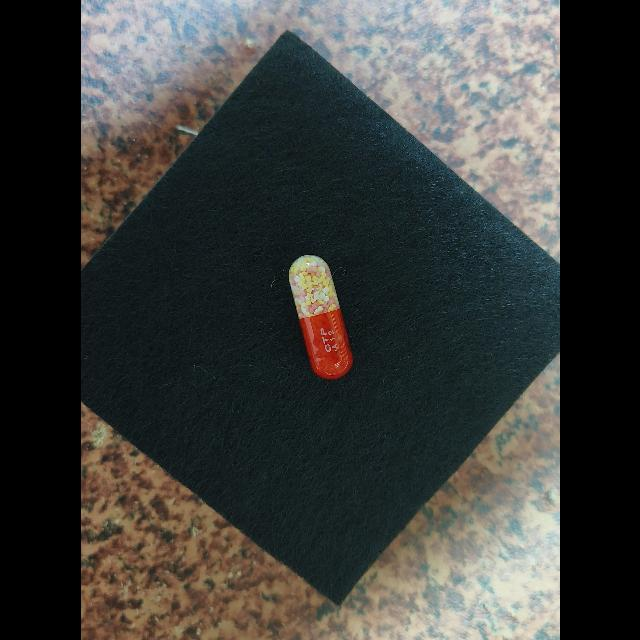Intact Capsule: (288, 255, 353, 379)
